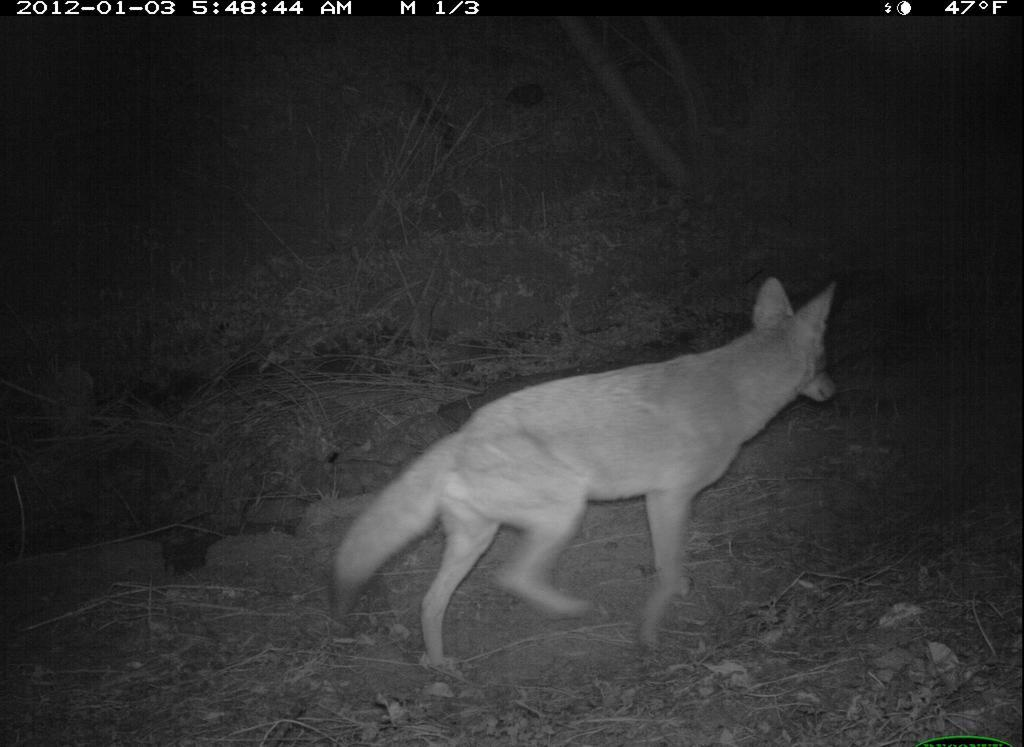coyote: (323, 277, 840, 680)
